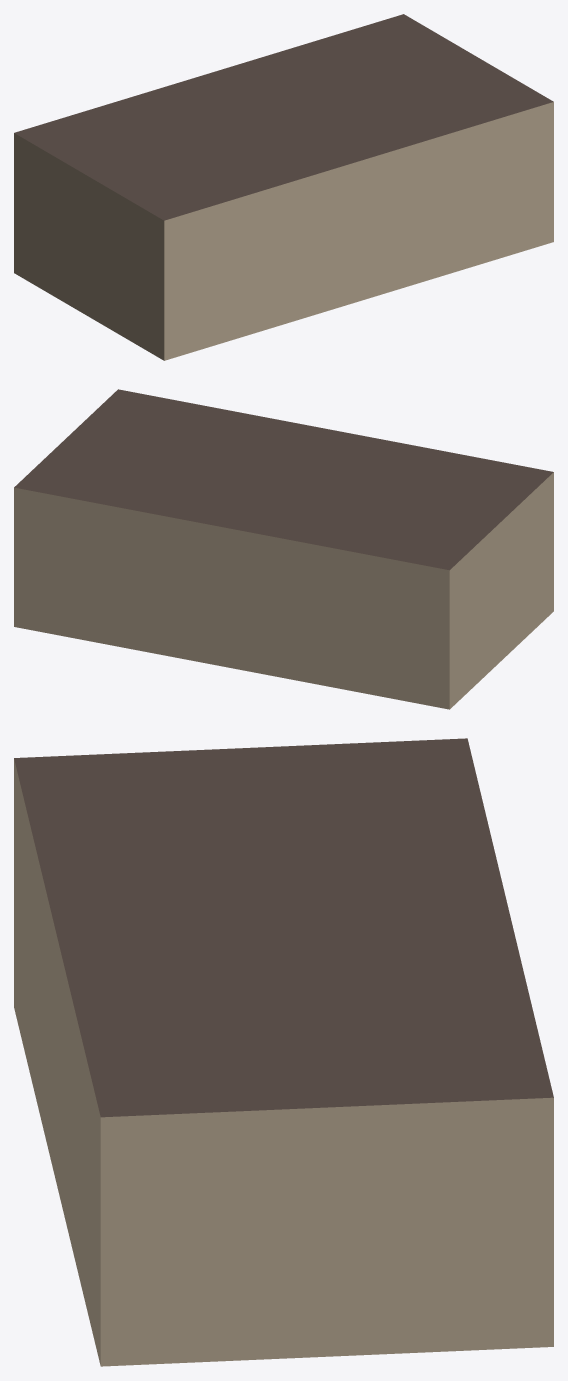
The picture shows the model from 3 angles, top to bottom: view 1: azimuth 30°, elevation 25°; view 2: azimuth 150°, elevation 25°; view 3: azimuth 270°, elevation 25°; orthographic projection. The views are drawn at different scales.
Parts seen in each view (by area): view 1: HP-w1286956101; view 2: HP-w1286956101; view 3: HP-w1286956101.
Boxes of the visible parts, left/top/right/bottom form: HP-w1286956101: left=14, top=14, right=553, bottom=360; HP-w1286956101: left=14, top=389, right=553, bottom=709; HP-w1286956101: left=14, top=738, right=553, bottom=1366.
Size of the model in its own units: 29.35 by 9 by 17.67.
